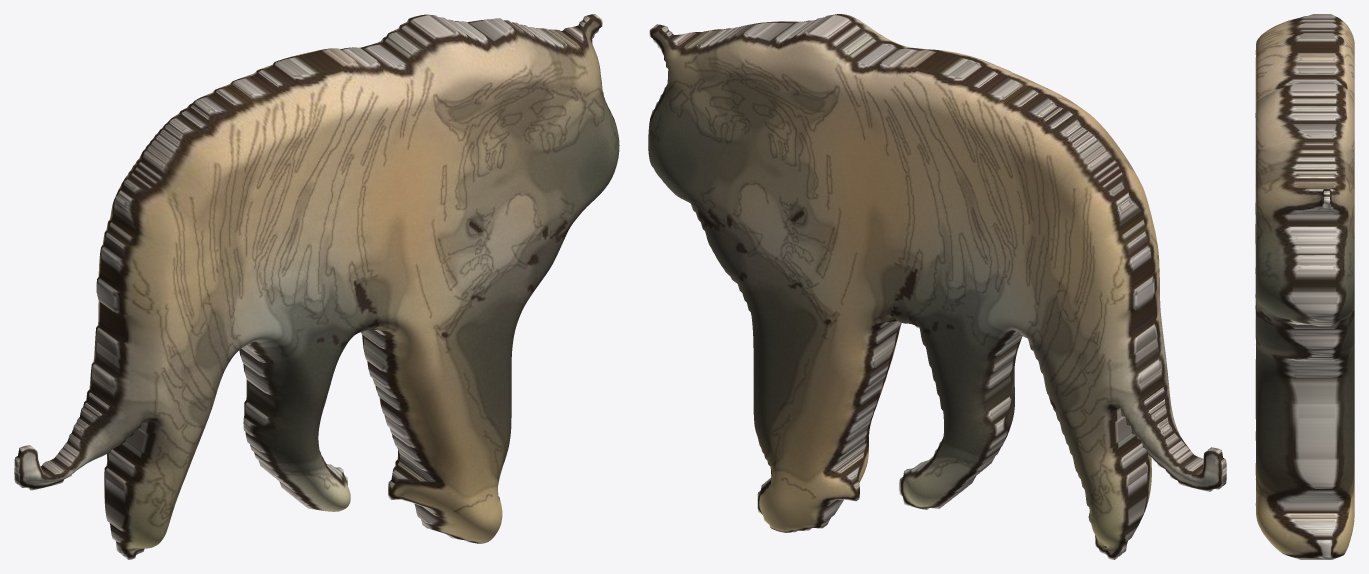
The model's file is tiger_50541307.glb.
3 views of the same model, side by side, from view 1: azimuth 30°, elevation 25°; view 2: azimuth 150°, elevation 25°; view 3: azimuth 270°, elevation 25° (orthographic). The views are drawn at different scales.
Visible parts, largest first — view 1: tiger_50541307; view 2: tiger_50541307; view 3: tiger_50541307.
Part boxes in pixels (x1=…): tiger_50541307: x1=14, y1=14, x2=619, y2=559; tiger_50541307: x1=648, y1=14, x2=1226, y2=559; tiger_50541307: x1=1255, y1=14, x2=1354, y2=559.
Bounding box in the file's own units: 1.97 × 1.65 × 0.3293.
1 material, 1 textured.
